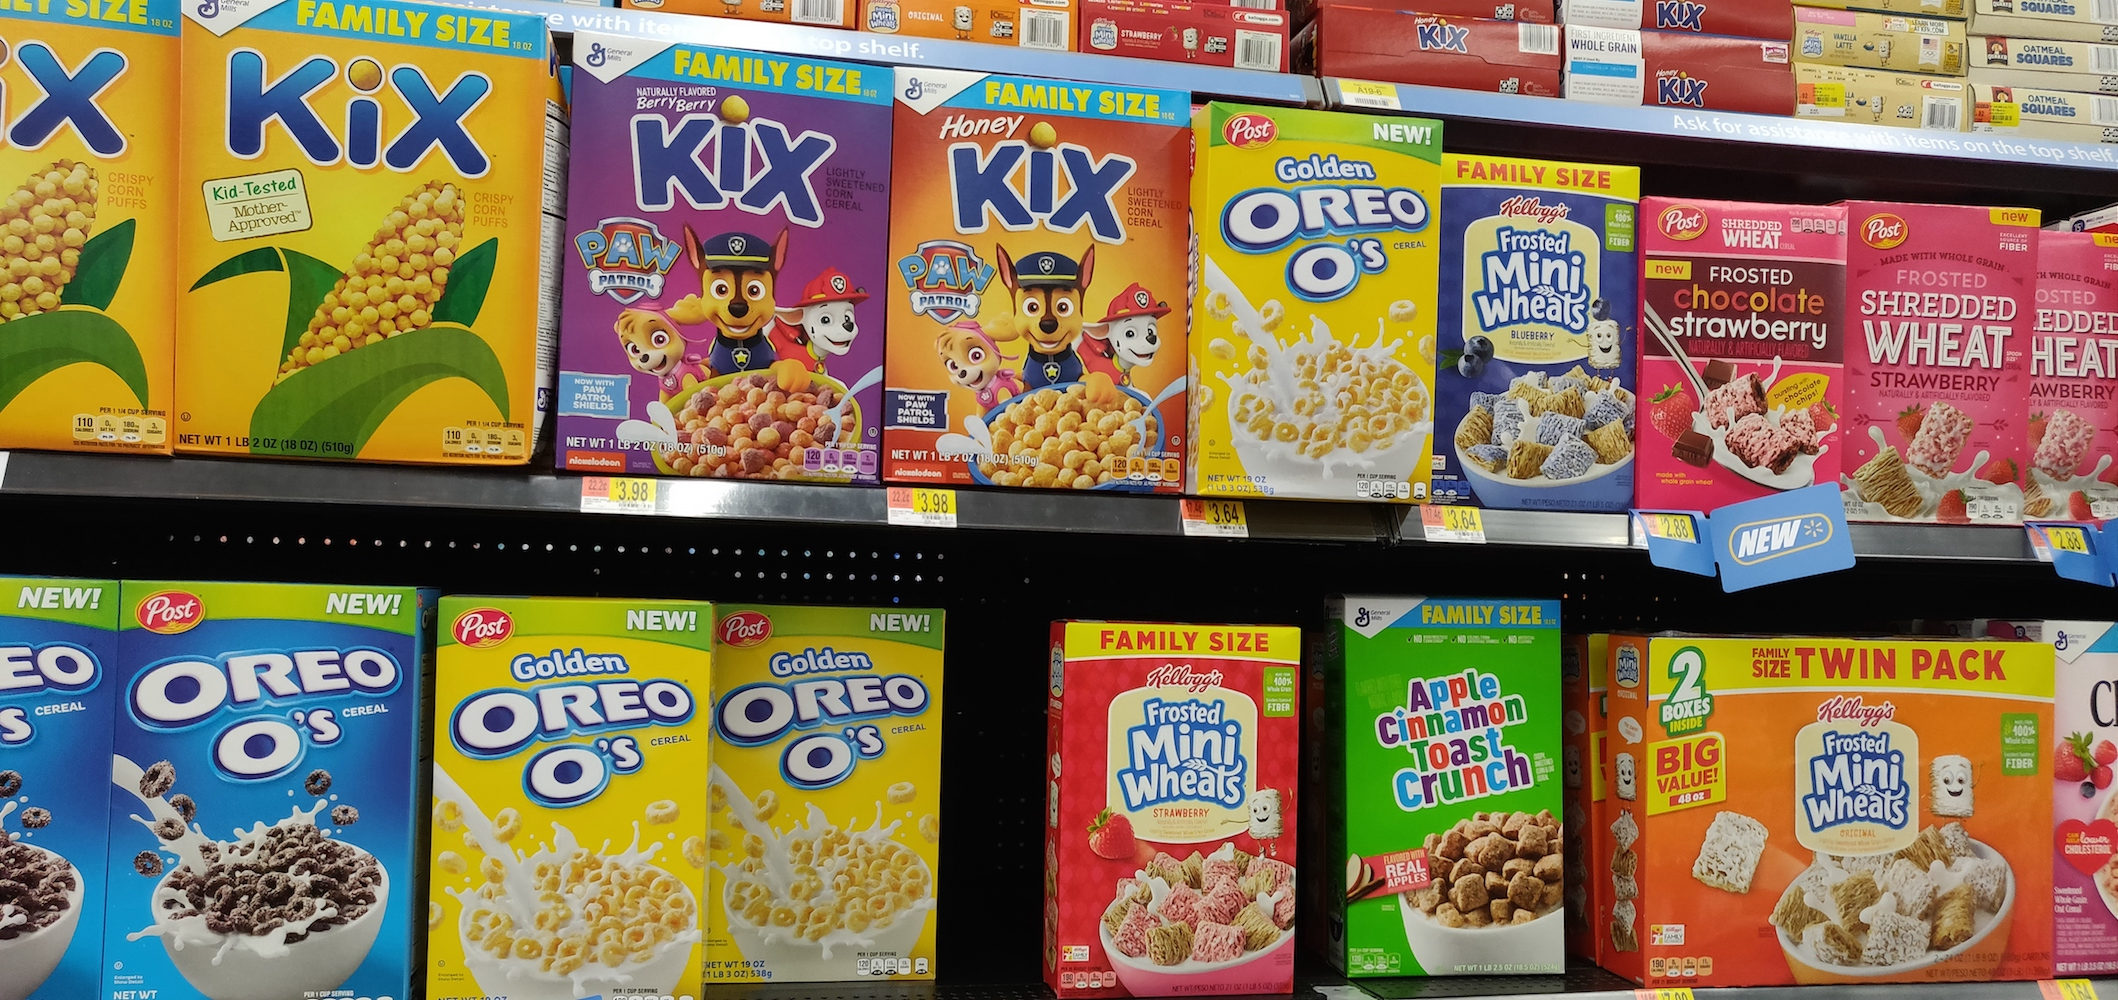Kix Berry -568919964: (577, 32, 879, 482)
Kix Crispy Corn-550051312: (184, 1, 521, 469)
Kix Honey -009258981: (892, 55, 1181, 492)
Mini Wheats Straw-567084832: (1054, 635, 1287, 981)
Oreo Golden-568301011: (447, 588, 690, 1000), (1202, 120, 1435, 505), (719, 609, 940, 988)
Oreo-563424384: (130, 584, 407, 992)
